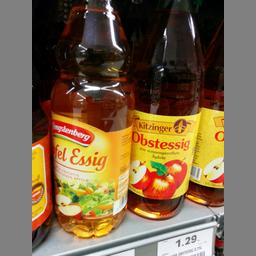vinegar: (48, 0, 129, 235), (130, 0, 196, 219)
